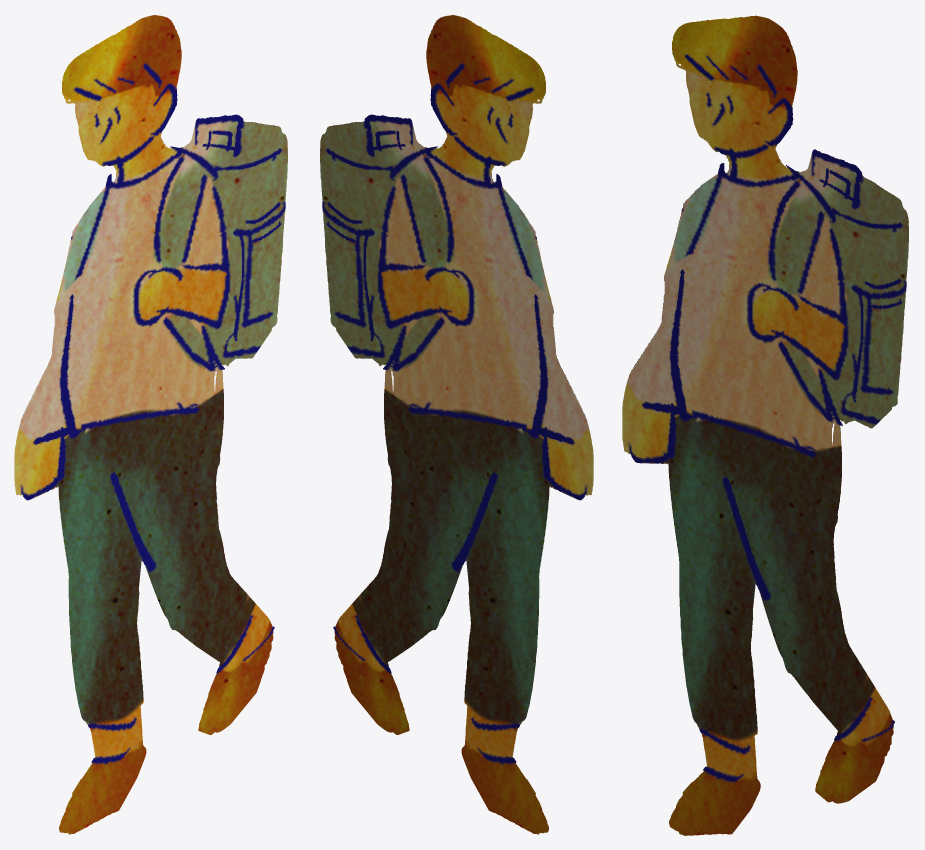
The model's file is people_03.fbx.
The picture shows the model from 3 angles, left to right: view 1: azimuth 30°, elevation 25°; view 2: azimuth 150°, elevation 25°; view 3: azimuth 330°, elevation 25°; orthographic projection. The views are drawn at different scales.
Parts seen in each view (by area): view 1: people_03; view 2: people_03; view 3: people_03.
Boxes of the visible parts, x1=… form: people_03: x1=14, y1=15, x2=287, y2=834; people_03: x1=320, y1=15, x2=593, y2=834; people_03: x1=622, y1=15, x2=908, y2=835.
Size of the model in its own units: 55.23 by 154 by 1.83e-05.
Materials: 1 (1 with a texture image).
